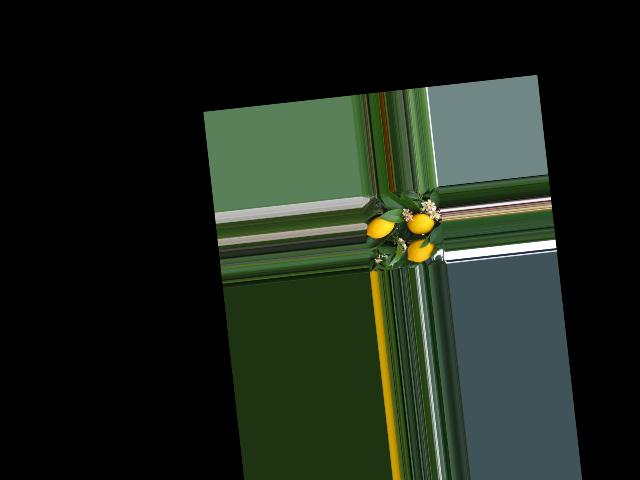lemon: (365, 210, 399, 240)
